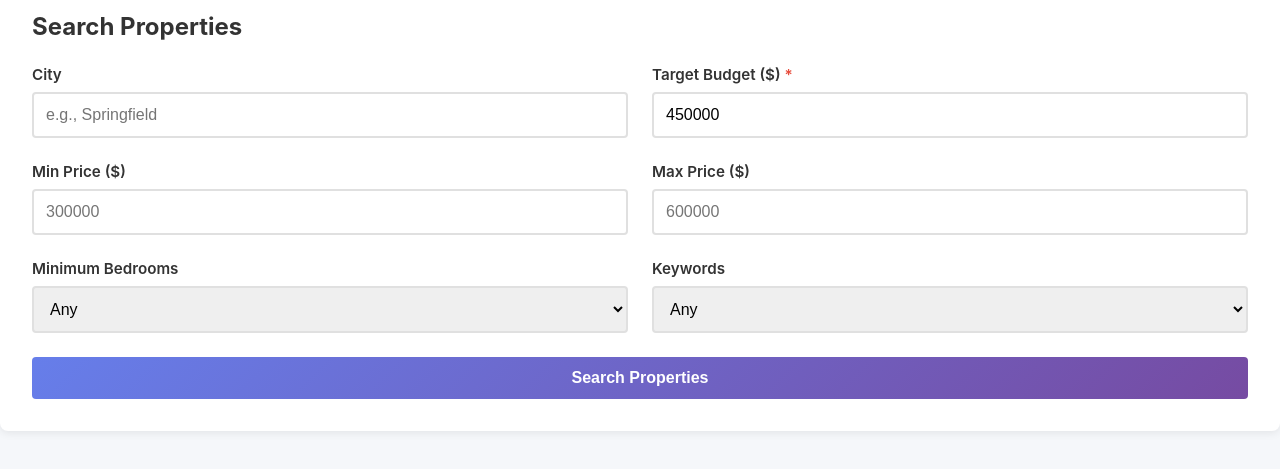
Scenario: SearchForm › validates target budget is required
The image size is (1280, 469).
Clear the number field labelled "Target Budget ($) *". click: (950, 115)
box: left=652, top=92, right=1248, bottom=138
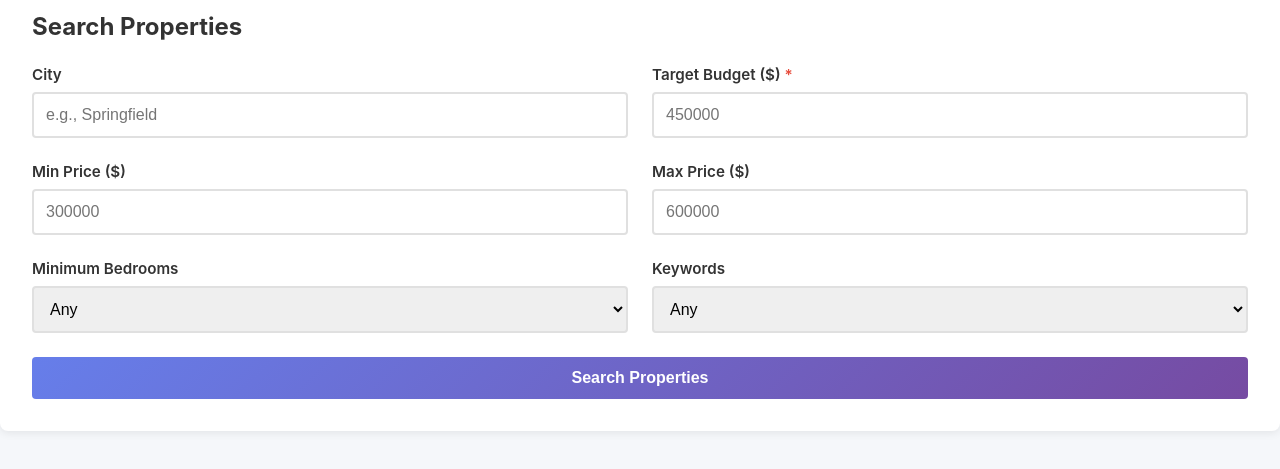
Click the button "Search Properties". click: (640, 378)
box: left=32, top=357, right=1248, bottom=399
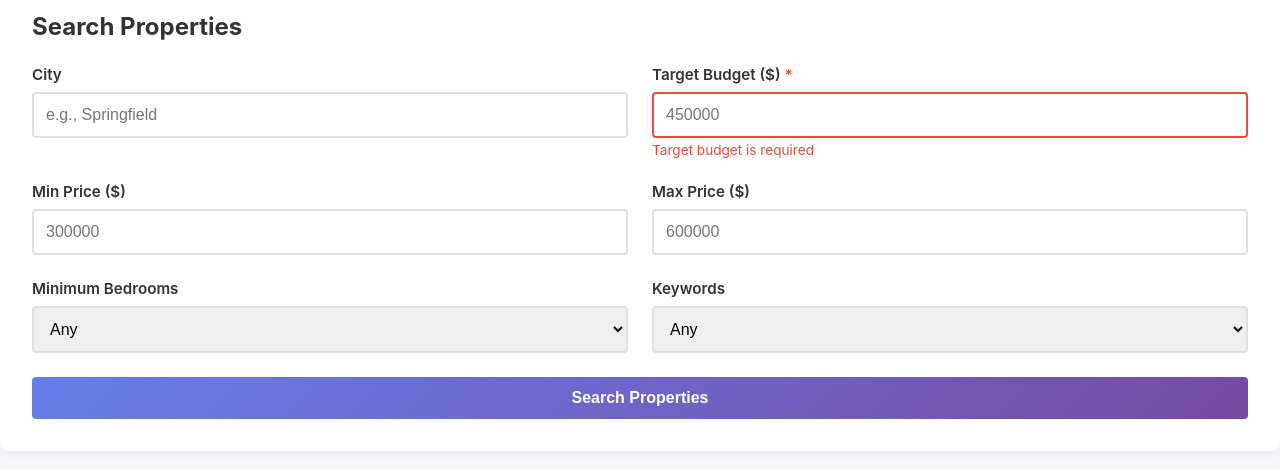
Expected: the text "Target budget is required" is shown, left=652, top=142, right=814, bottom=158
